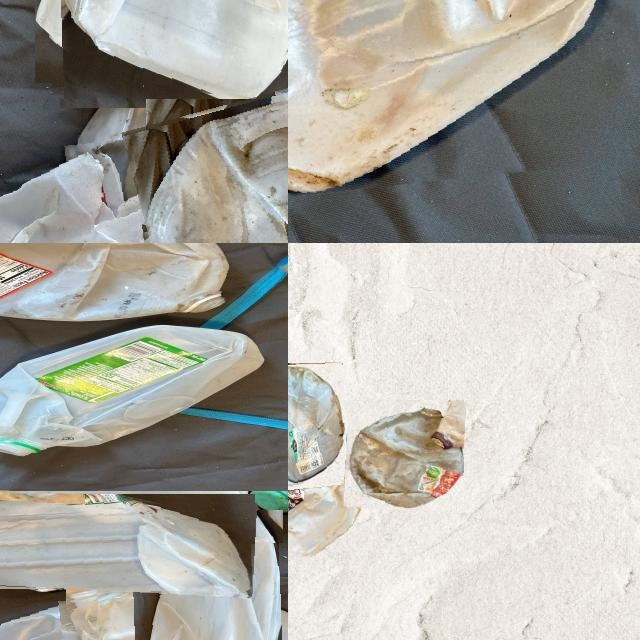milk-jug: (288, 0, 640, 199), (0, 324, 272, 452), (0, 488, 256, 593), (135, 80, 288, 243), (0, 137, 228, 243), (45, 0, 288, 96), (98, 542, 288, 640), (0, 243, 232, 318), (344, 398, 466, 512), (288, 454, 383, 558), (288, 362, 345, 486)
